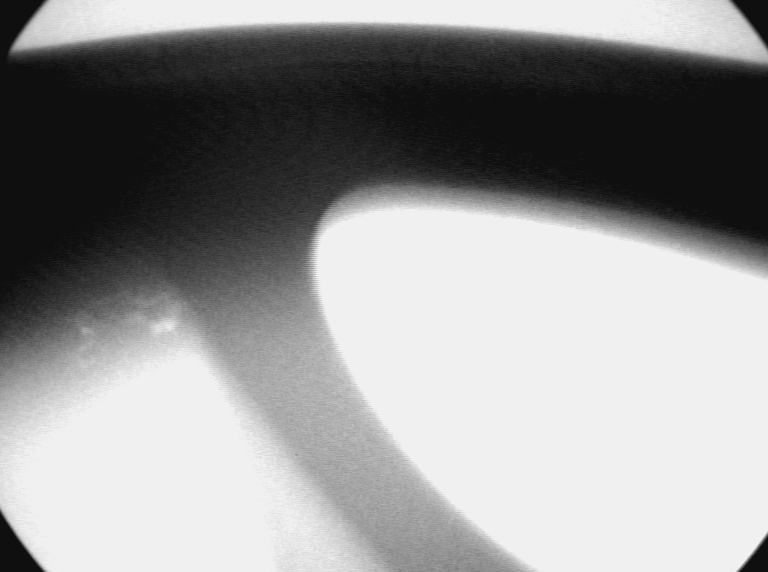defect: (66, 284, 188, 374)
